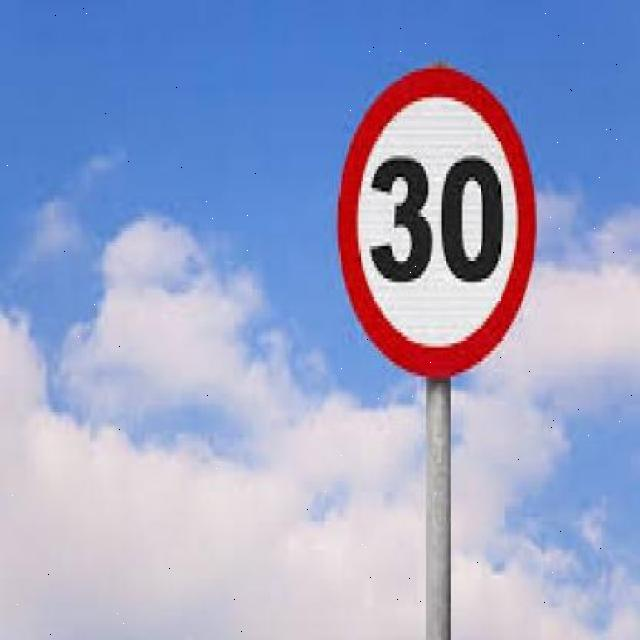speed limit 30: (335, 67, 539, 377)
